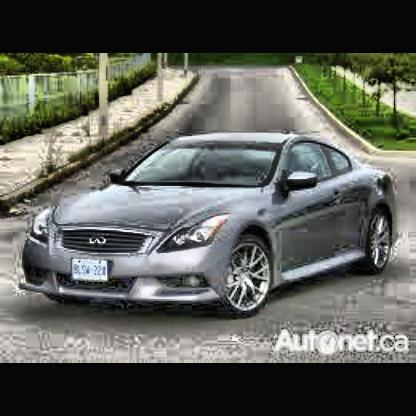Infiniti G Coupe IPL 2012: (22, 131, 401, 321)
